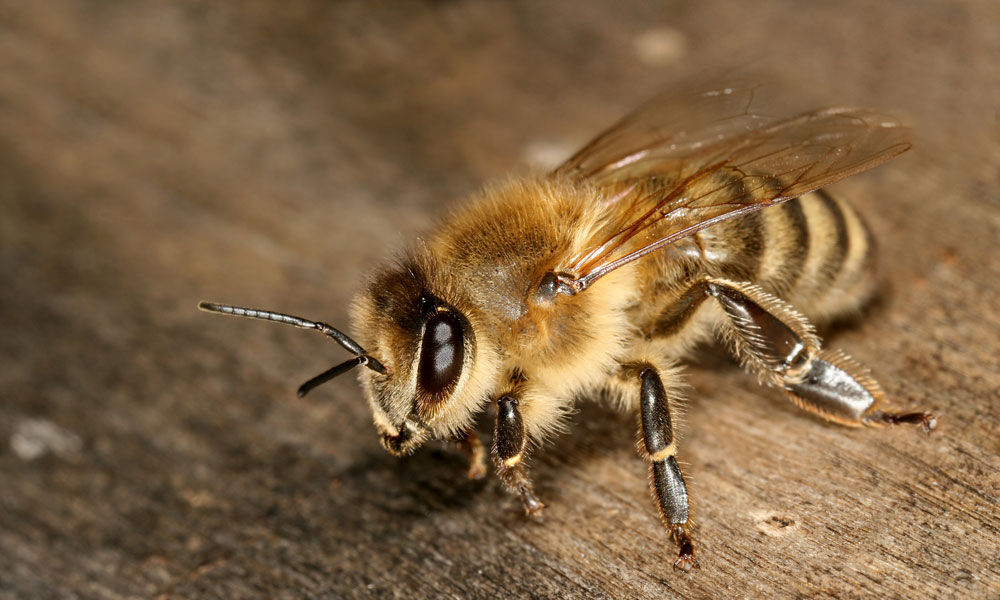Africanized Honey Bee: (182, 49, 949, 578)
